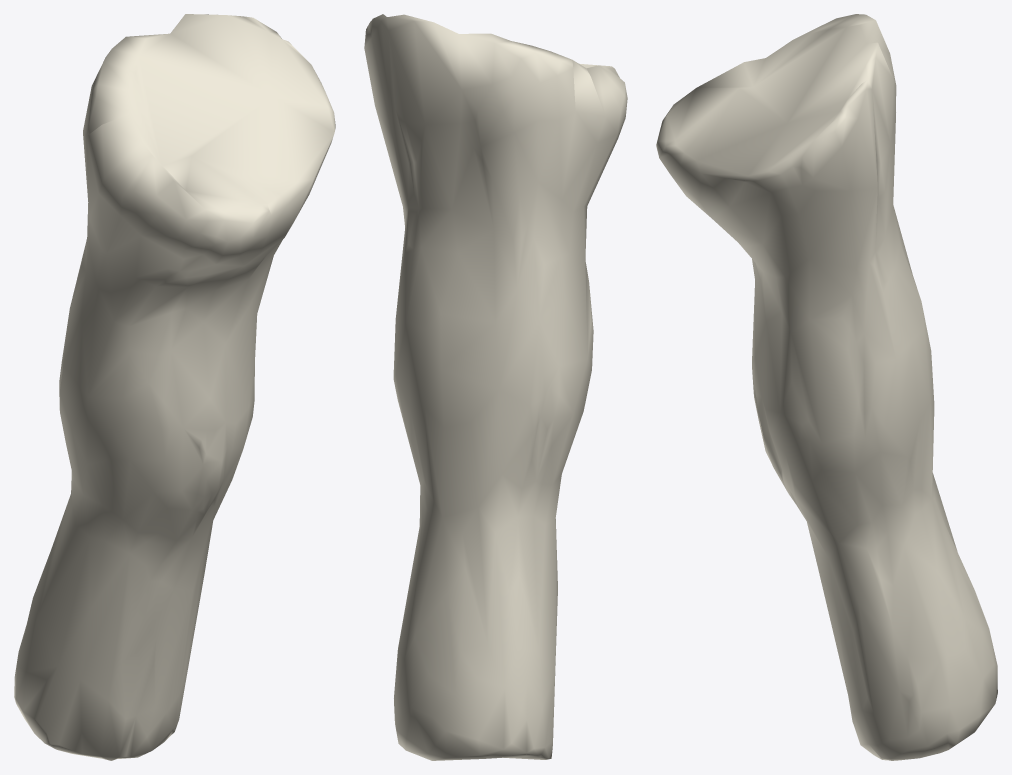
The picture shows the model from 3 angles, left to right: view 1: azimuth 30°, elevation 25°; view 2: azimuth 150°, elevation 25°; view 3: azimuth 270°, elevation 25°; orthographic projection.
Parts seen in each view (by area): view 1: ZA_0bba72a90041e609; view 2: ZA_0bba72a90041e609; view 3: ZA_0bba72a90041e609.
Boxes of the visible parts, x1,y1,x2,y2 form: ZA_0bba72a90041e609: (14, 14, 335, 760); ZA_0bba72a90041e609: (364, 14, 627, 760); ZA_0bba72a90041e609: (656, 14, 997, 760).
Size of the model in its own units: 0.00362 by 0.0106 by 0.00451.
